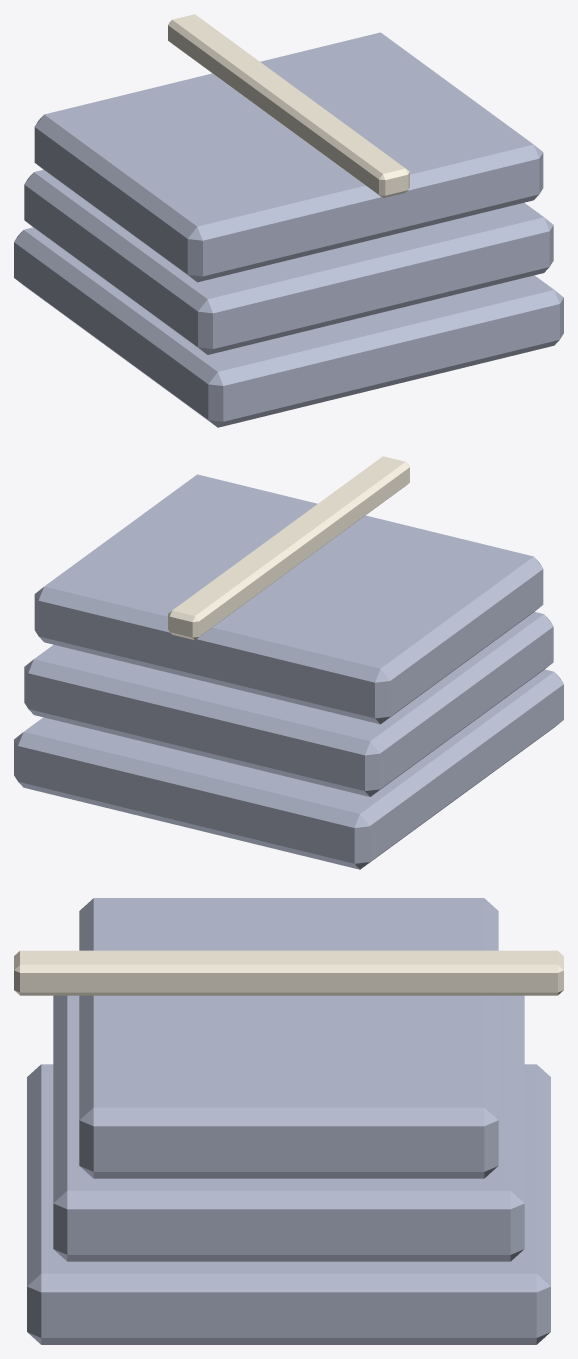
Rendered from cargo_cloth.fbx.
3 renders of one model, top to bottom at view 1: azimuth 30°, elevation 25°; view 2: azimuth 150°, elevation 25°; view 3: azimuth 270°, elevation 25°, orthographic. The views are drawn at different scales.
Visible parts, largest first — view 1: cargo_cloth_mesh; view 2: cargo_cloth_mesh; view 3: cargo_cloth_mesh.
Boxes of the visible parts, <box> form: cargo_cloth_mesh: <box>14,14,563,427</box>; cargo_cloth_mesh: <box>14,456,563,869</box>; cargo_cloth_mesh: <box>14,898,563,1344</box>.
Size of the model in its own units: 0.4 by 0.238 by 0.42.
